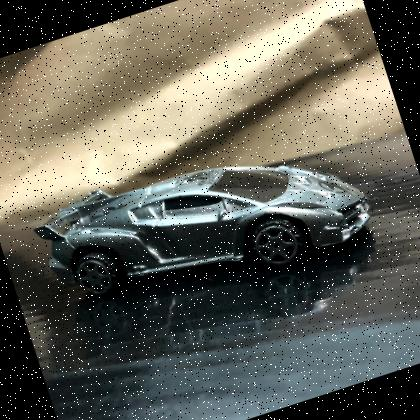Car: (34, 164, 371, 296)
